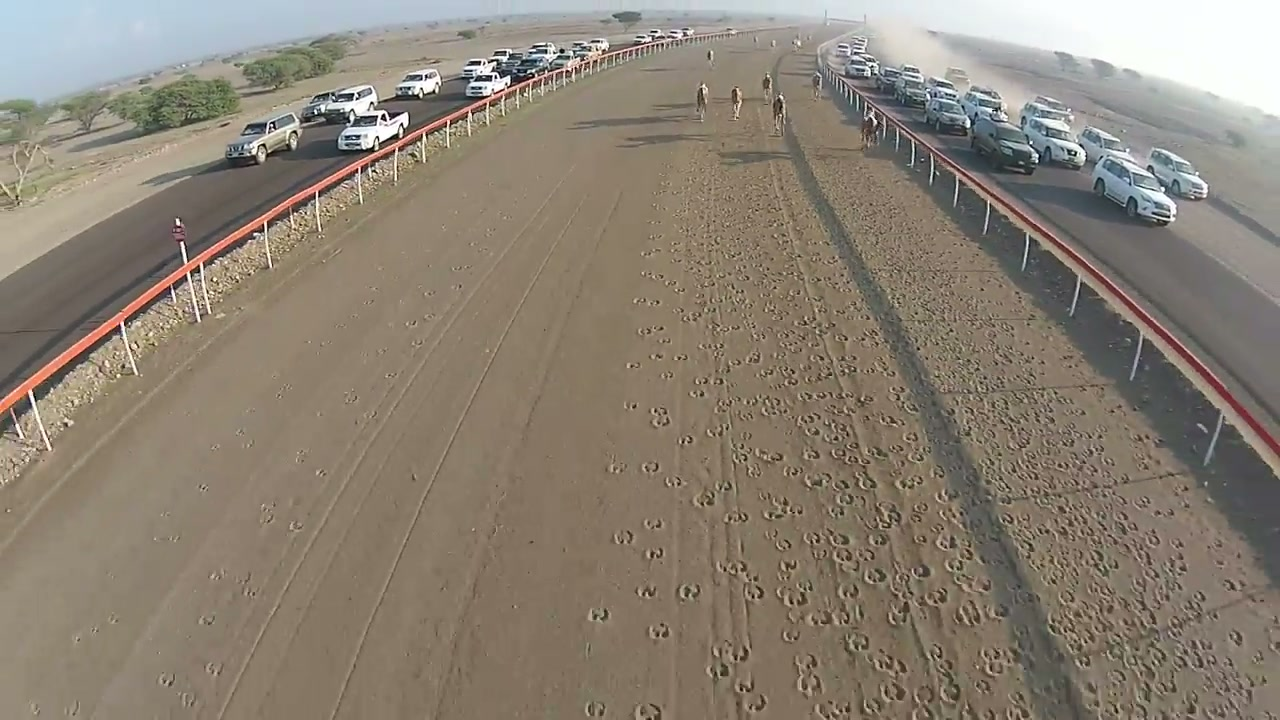animal_foot_print: (661, 211, 1091, 718), (706, 640, 754, 695), (804, 605, 863, 628), (979, 647, 1014, 678), (762, 497, 804, 521), (866, 515, 897, 547), (712, 640, 750, 664), (872, 650, 906, 675), (814, 699, 854, 719), (795, 671, 823, 697), (879, 679, 908, 704), (776, 585, 808, 607), (938, 676, 962, 705), (958, 576, 993, 595), (715, 560, 749, 578), (741, 692, 767, 714), (1006, 699, 1034, 719), (831, 548, 856, 570), (912, 685, 938, 706), (861, 695, 886, 716), (895, 473, 924, 491), (923, 587, 949, 607), (862, 567, 889, 586), (793, 654, 819, 673), (803, 472, 831, 489), (934, 532, 959, 551), (706, 660, 731, 679), (633, 703, 662, 719), (692, 489, 716, 508), (676, 583, 701, 601), (650, 407, 671, 428), (743, 582, 765, 602), (837, 582, 860, 601), (825, 530, 851, 546), (733, 675, 754, 694), (648, 622, 670, 639), (584, 701, 606, 718), (780, 627, 802, 644), (762, 507, 788, 521), (258, 503, 274, 525), (878, 414, 905, 427), (724, 510, 748, 524), (613, 529, 634, 545), (588, 608, 610, 623), (782, 464, 804, 479), (802, 531, 824, 546), (178, 691, 196, 709), (63, 700, 81, 717), (637, 326, 664, 337), (636, 584, 657, 598), (153, 533, 181, 543), (714, 478, 734, 492), (606, 460, 626, 474), (241, 582, 257, 599), (1228, 629, 1244, 646), (204, 661, 222, 676), (633, 297, 660, 307), (208, 567, 227, 581), (644, 547, 664, 560), (801, 448, 821, 461), (275, 383, 292, 398), (664, 476, 685, 488), (762, 526, 780, 540), (641, 461, 660, 474), (644, 518, 664, 530), (343, 389, 359, 404), (294, 448, 309, 463), (158, 672, 174, 686), (198, 613, 215, 626), (640, 248, 660, 258), (678, 434, 694, 446), (288, 520, 303, 532), (688, 388, 706, 398), (410, 337, 426, 348), (451, 264, 471, 272), (623, 401, 638, 411), (197, 482, 210, 493), (313, 468, 327, 478), (649, 352, 664, 361), (625, 361, 641, 369), (450, 283, 463, 292), (674, 353, 688, 361)
